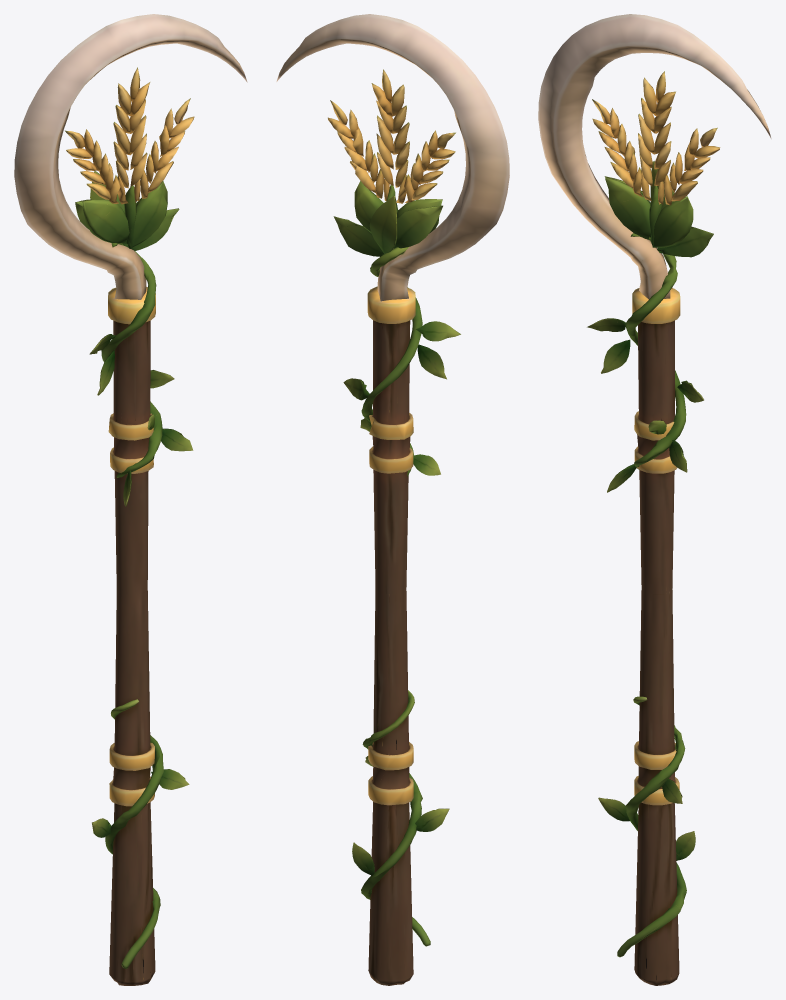
File: wpn_demeter.glb
3 views of the same model, side by side, from view 1: azimuth 30°, elevation 25°; view 2: azimuth 150°, elevation 25°; view 3: azimuth 330°, elevation 25° (orthographic).
Parts seen in each view (by area): view 1: geometry_0; view 2: geometry_0; view 3: geometry_0.
Boxes of the visible parts, bbox=[...] form: geometry_0: bbox=[14, 14, 247, 985]; geometry_0: bbox=[276, 14, 509, 985]; geometry_0: bbox=[538, 14, 771, 985].
Size of the model in its own units: 0.2417 by 0.9512 by 0.0728.
1 material, 1 textured.
